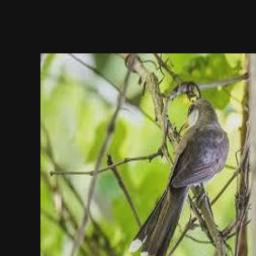Cuckoo: (127, 99, 230, 256)
